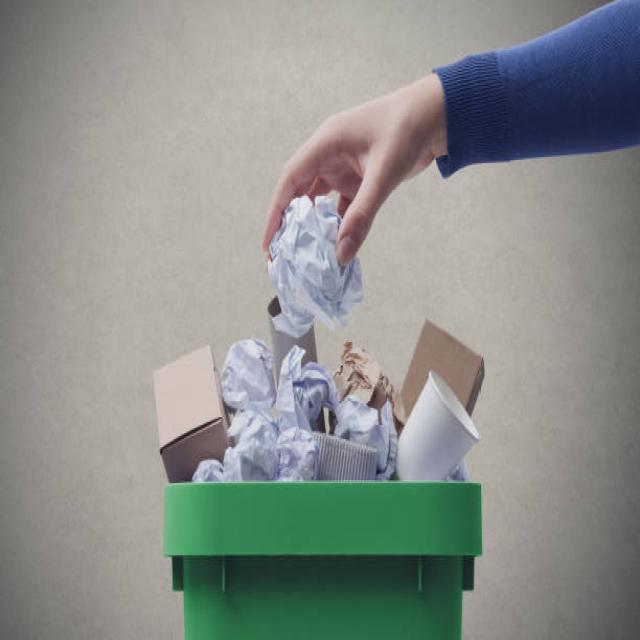cardboard: (138, 326, 230, 463)
paper: (231, 218, 475, 467)
